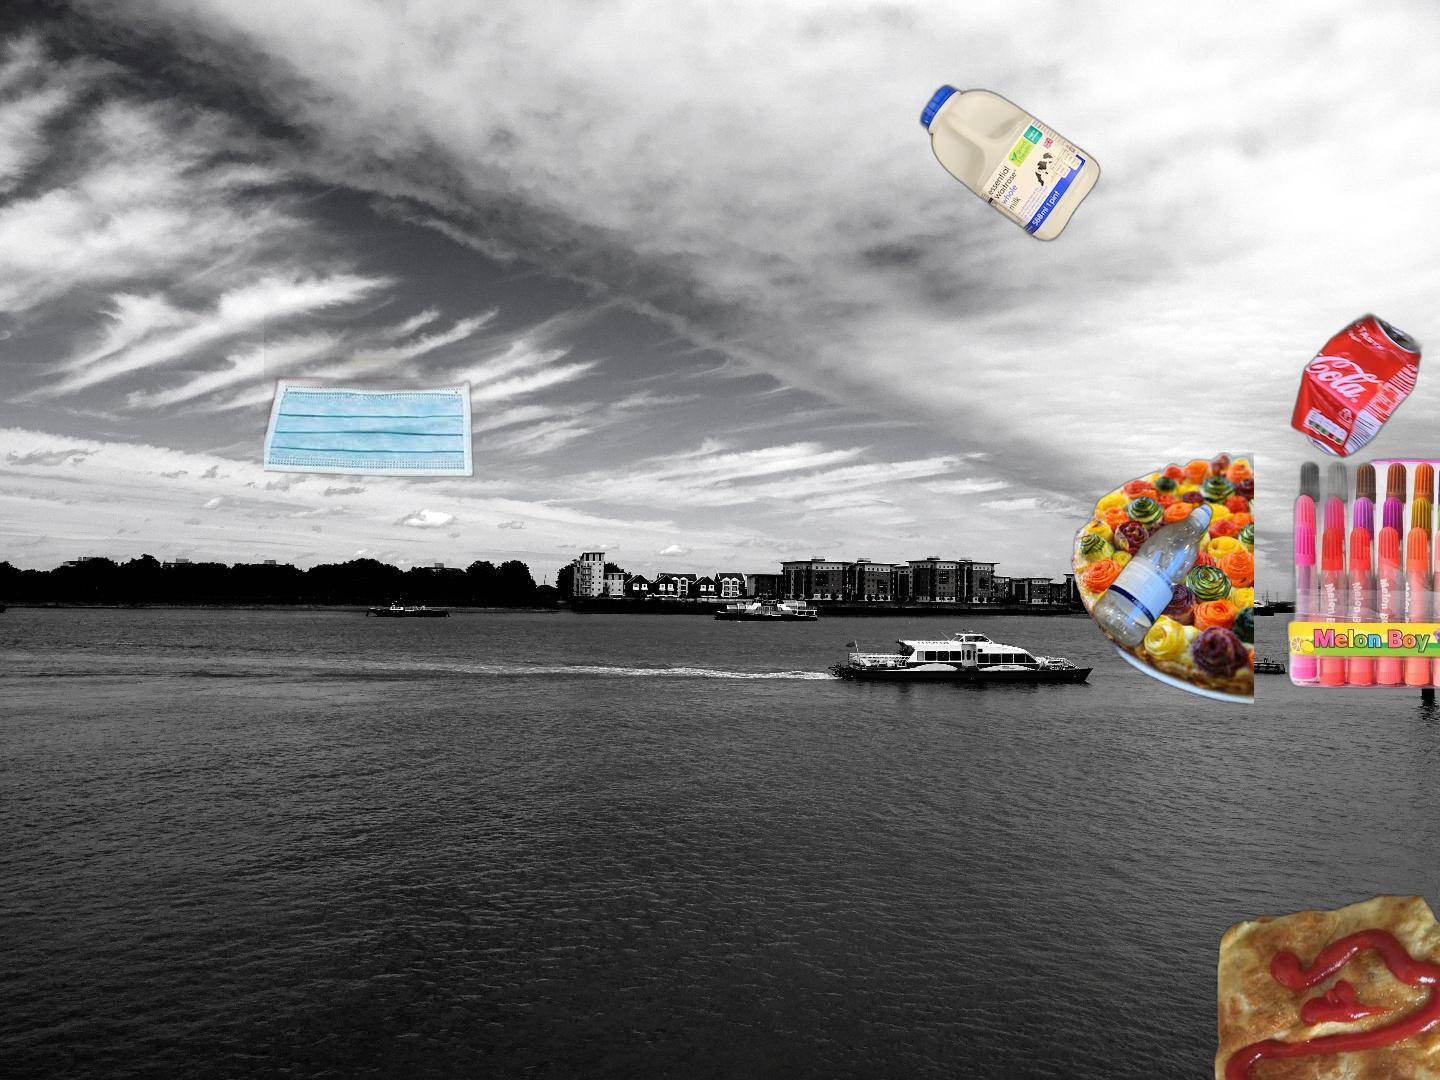biological: (1068, 452, 1254, 704), (1209, 894, 1440, 1080)
metal-cans: (1287, 307, 1426, 464)
penholder: (1279, 455, 1440, 700)
plastic-bottles: (1015, 500, 1217, 951), (916, 78, 1106, 247)
trash: (264, 277, 478, 480)
